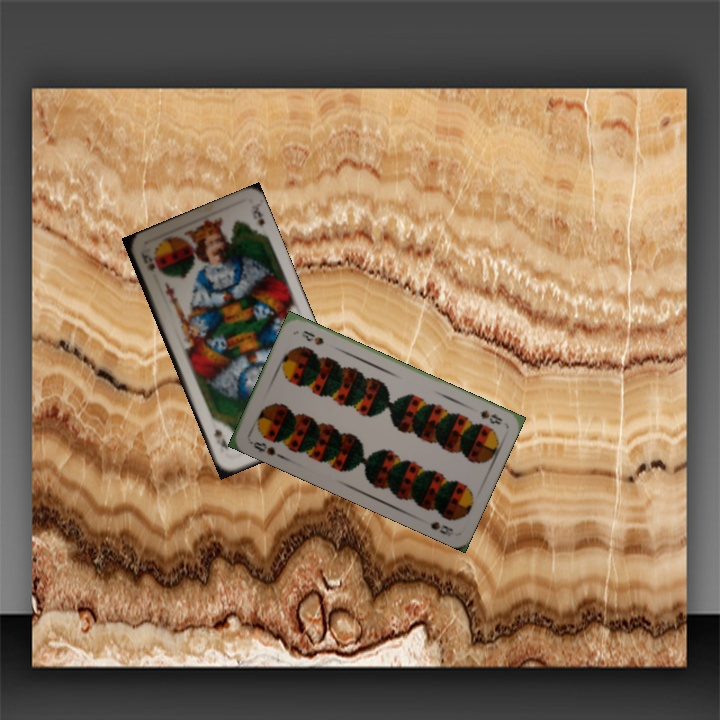S8: (246, 437, 278, 458), (476, 405, 505, 427)
SK: (136, 248, 158, 274)
